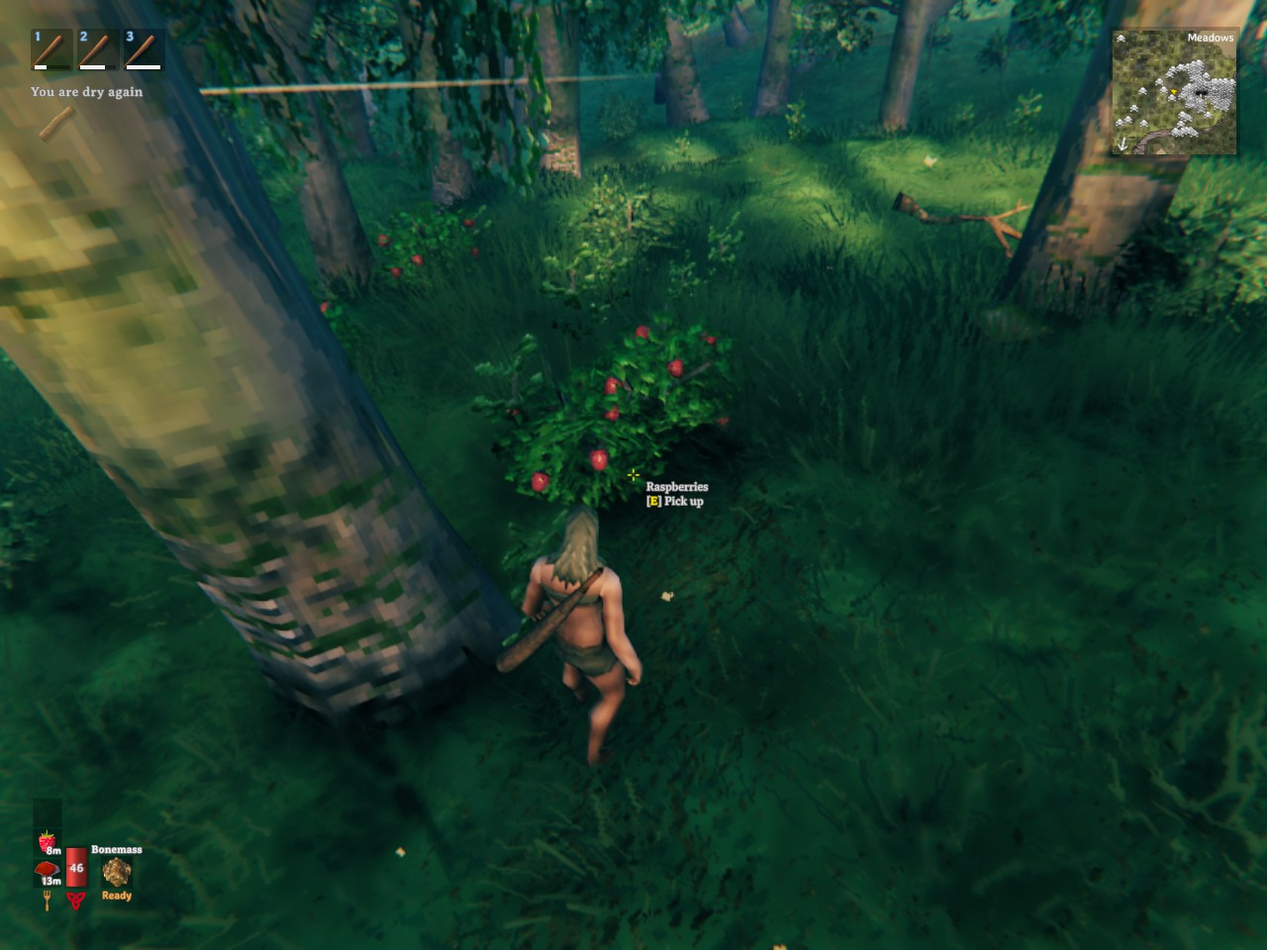Branch: (893, 192, 1028, 257)
Food Indicator: (36, 797, 63, 891)
Health Bar: (63, 820, 90, 891)
Hotbar: (24, 21, 195, 80)
Raspberries: (598, 324, 741, 430), (518, 407, 659, 505), (377, 209, 489, 283), (313, 289, 351, 335)
